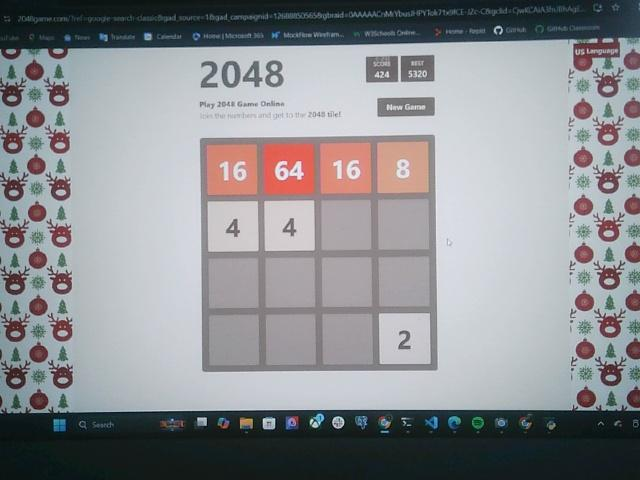board: (202, 136, 437, 370)
tile: (207, 200, 260, 253), (321, 143, 373, 195), (262, 143, 314, 194), (378, 143, 430, 194), (264, 200, 315, 251), (208, 145, 258, 195), (382, 313, 431, 363)
